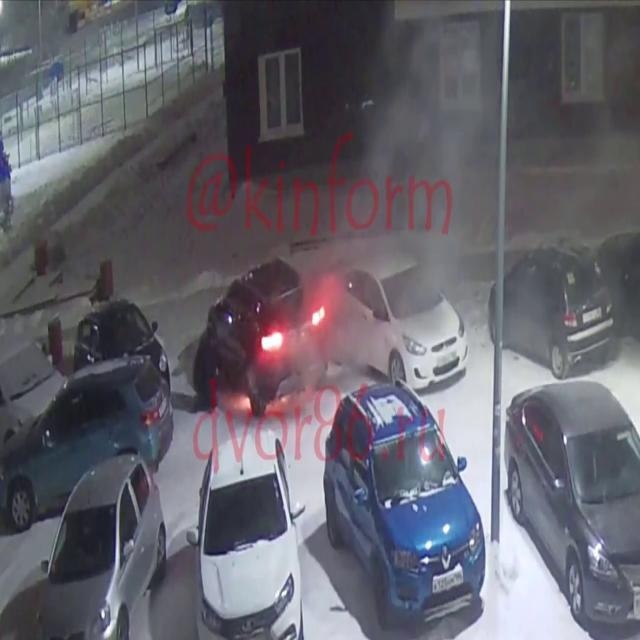Smoke: (330, 0, 626, 332)
